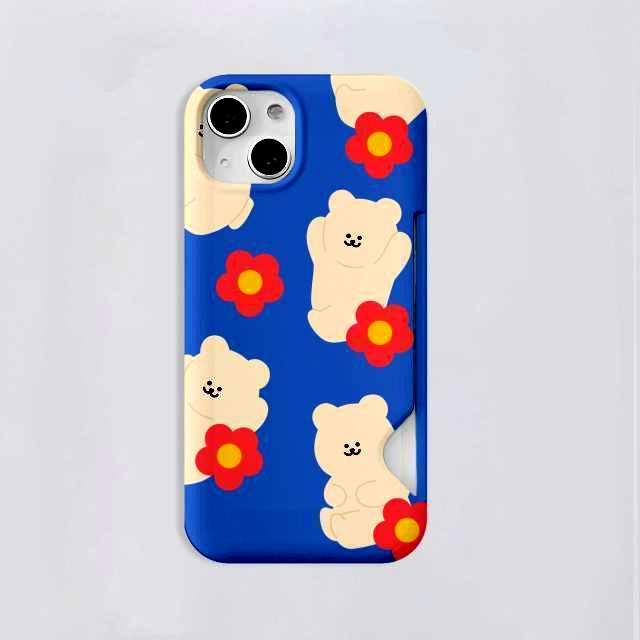lens_back: (202, 90, 254, 144), (241, 134, 297, 184)
phone: (178, 71, 436, 566)
